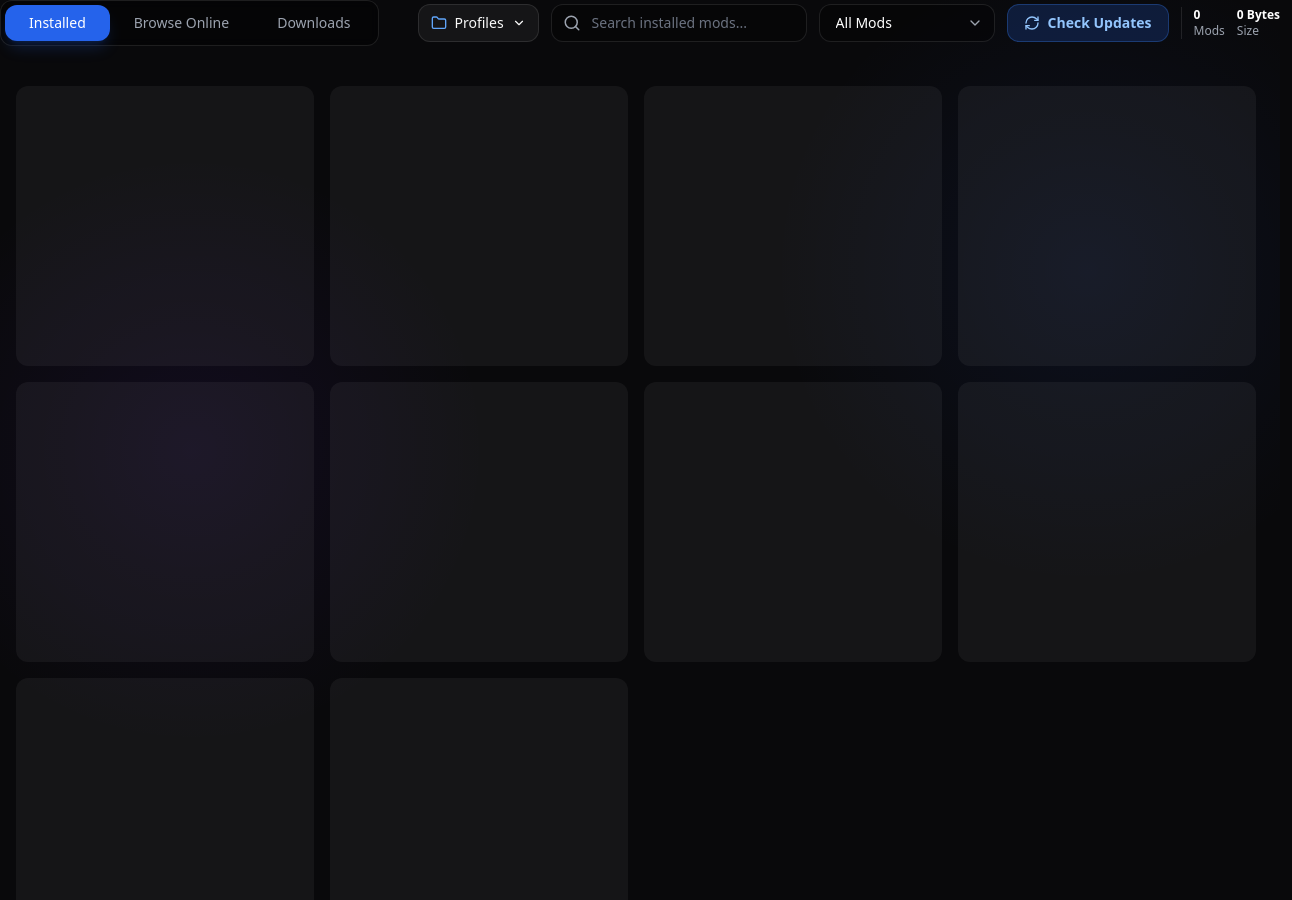
Test case: Mods Page Full Sweeper Coverage › 5. should show checking updates text when loading
The image size is (1292, 900).
expect the text "Check Updates" is shown: met, box [1048,13,1152,33]
Click the button "Check Updates" at (1088, 23), box [1007,4,1169,42]
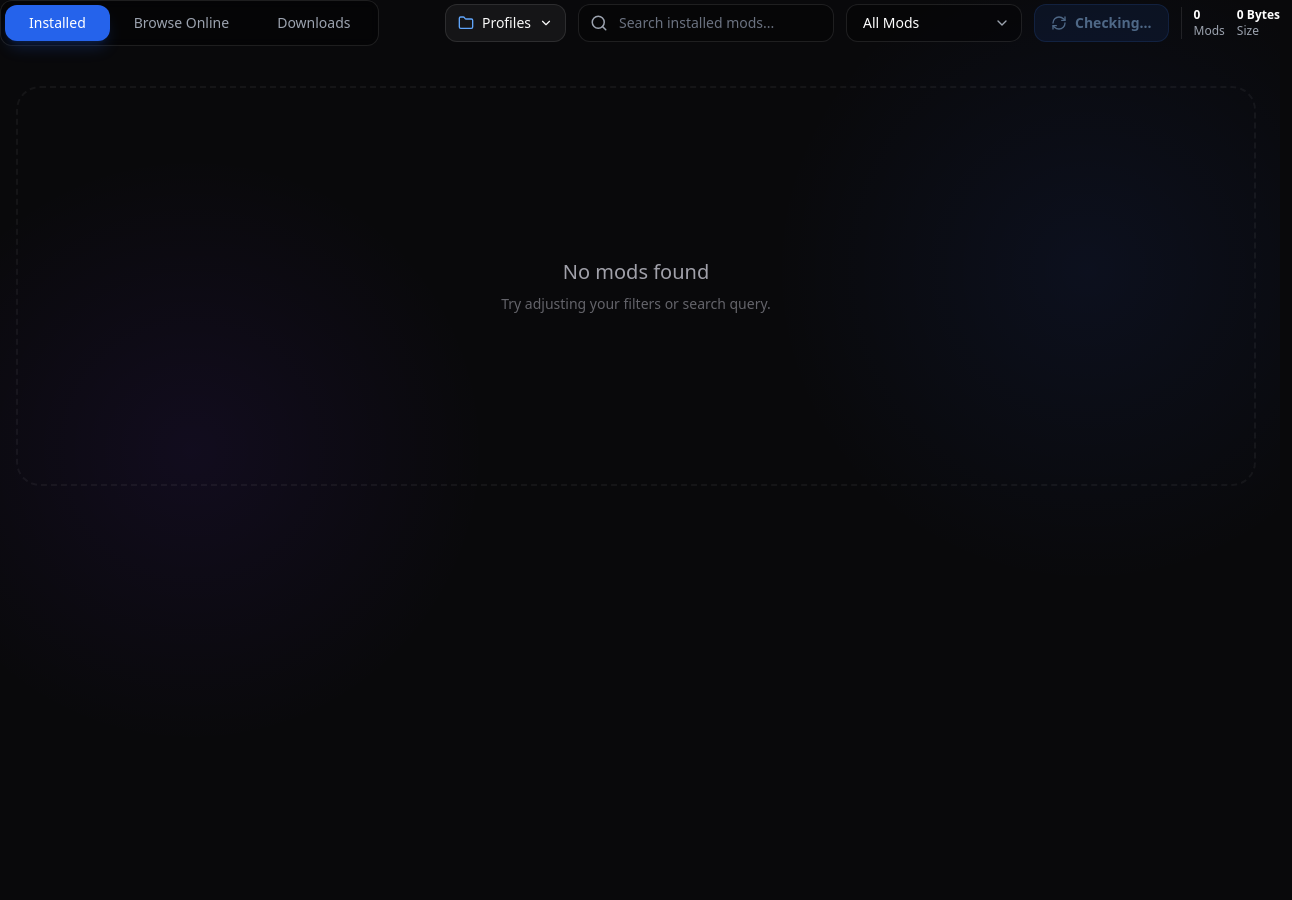
expect the text "Checking..." is shown: met, box [1075,13,1152,33]
